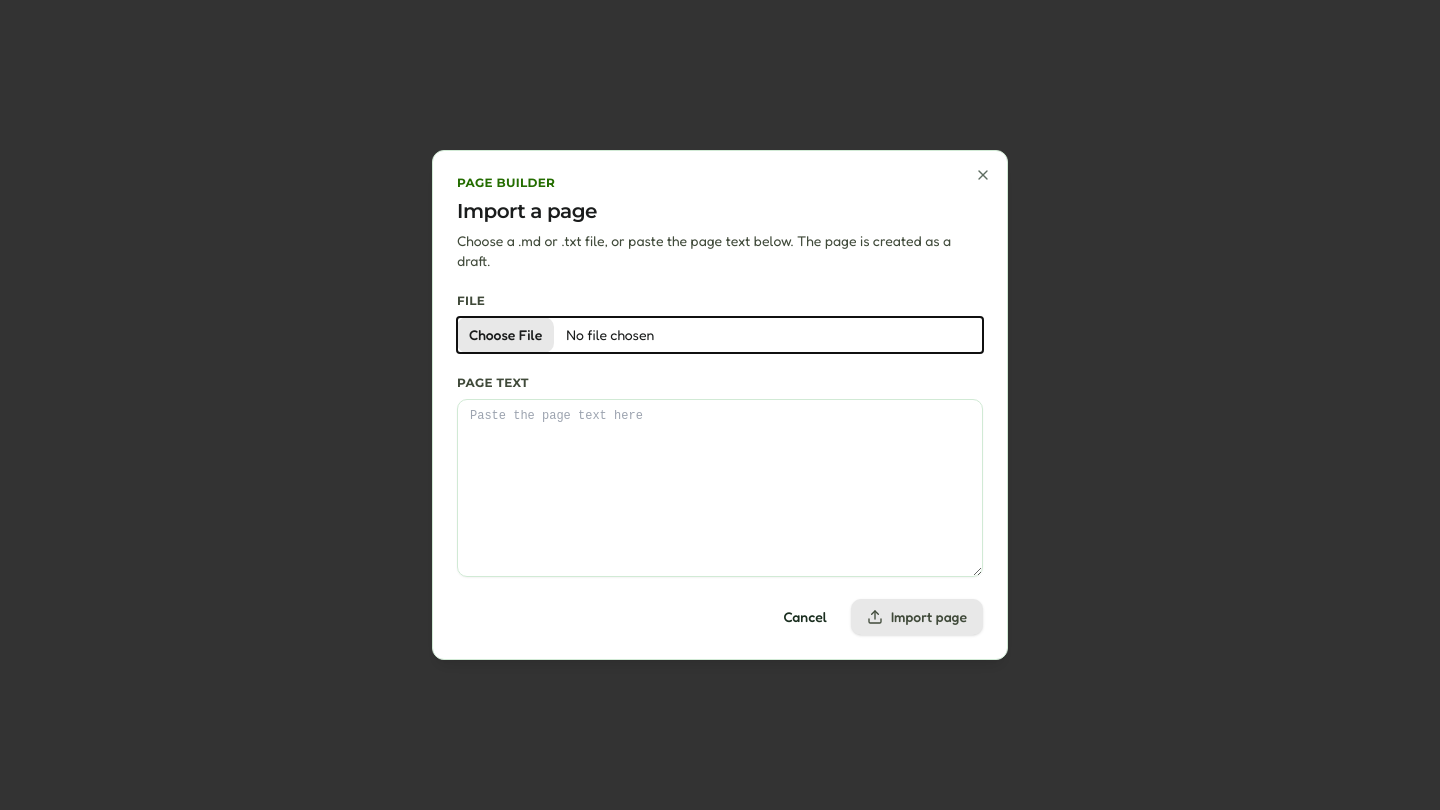
Test: ImportPageDialog › sends { markdown } and shows errors as a list on 400, keeping the text and not navigating
The image size is (1440, 810).
In the text box labelled "Page text": coordinates (720, 488) left=457, top=399, right=983, bottom=577, type "some text"
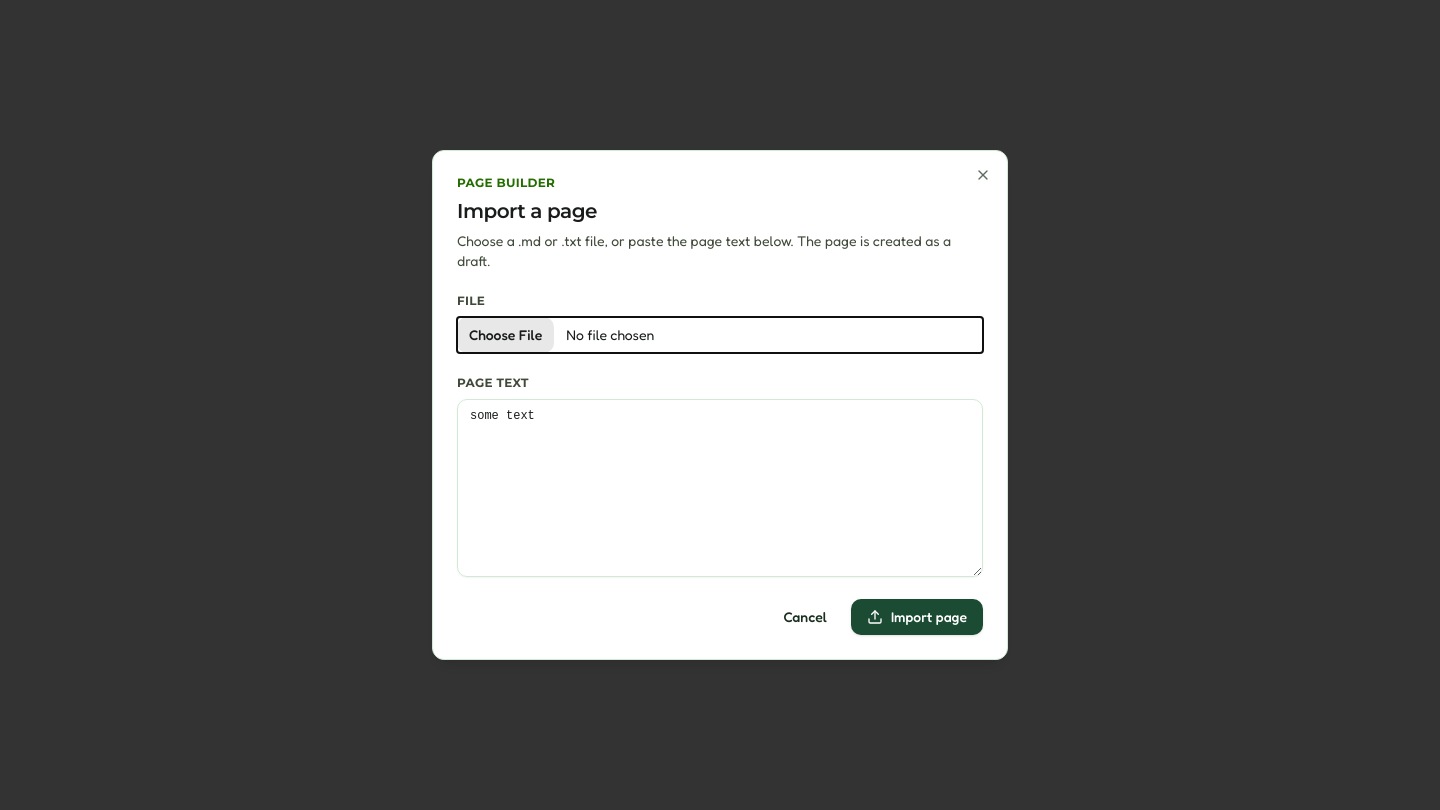
Click the button "Import page": coordinates (917, 617) left=851, top=599, right=983, bottom=635
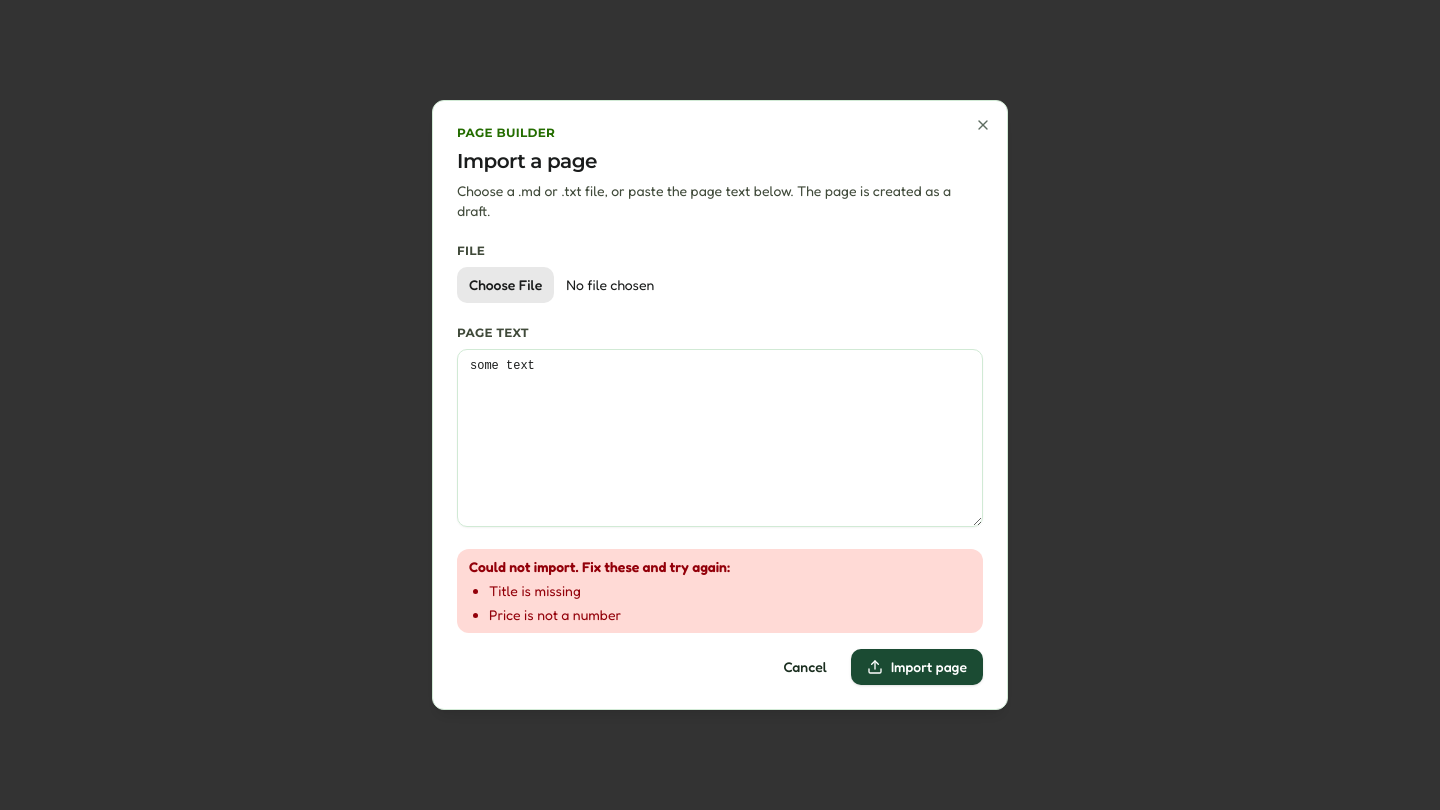
expect the text "Could not import. Fix these and try again:" is shown: met, box left=469, top=558, right=730, bottom=575
expect the list item "Title is missing" is shown: met, box left=489, top=582, right=581, bottom=599
expect the list item "Price is not a number" is shown: met, box left=489, top=606, right=621, bottom=623
